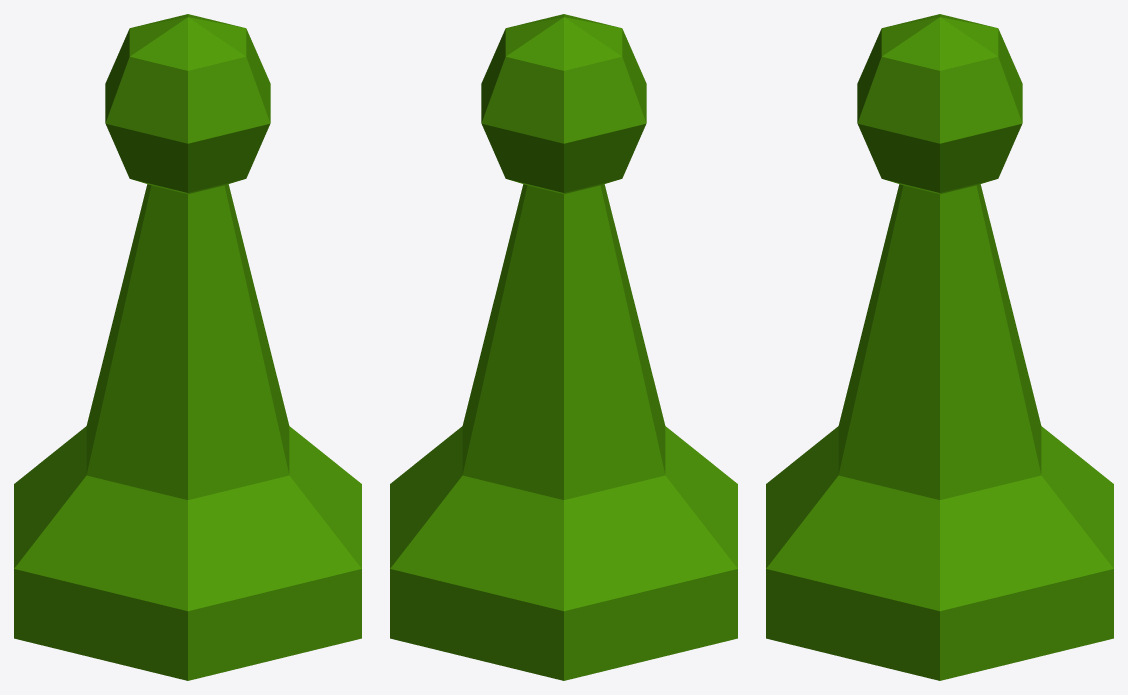
File: Game_Piece_Generic_Green_01.fbx
The picture shows the model from 3 angles, left to right: view 1: azimuth 30°, elevation 25°; view 2: azimuth 150°, elevation 25°; view 3: azimuth 270°, elevation 25°; orthographic projection.
Visible parts, largest first — view 1: Game_Piece_Generic_Green_01; view 2: Game_Piece_Generic_Green_01; view 3: Game_Piece_Generic_Green_01.
Part boxes in pixels (x1,y1,x2,y2): Game_Piece_Generic_Green_01: [14, 14, 361, 680]; Game_Piece_Generic_Green_01: [390, 14, 737, 680]; Game_Piece_Generic_Green_01: [766, 14, 1113, 680].
Bounding box in the file's own units: 15.7 × 24.98 × 13.6.
